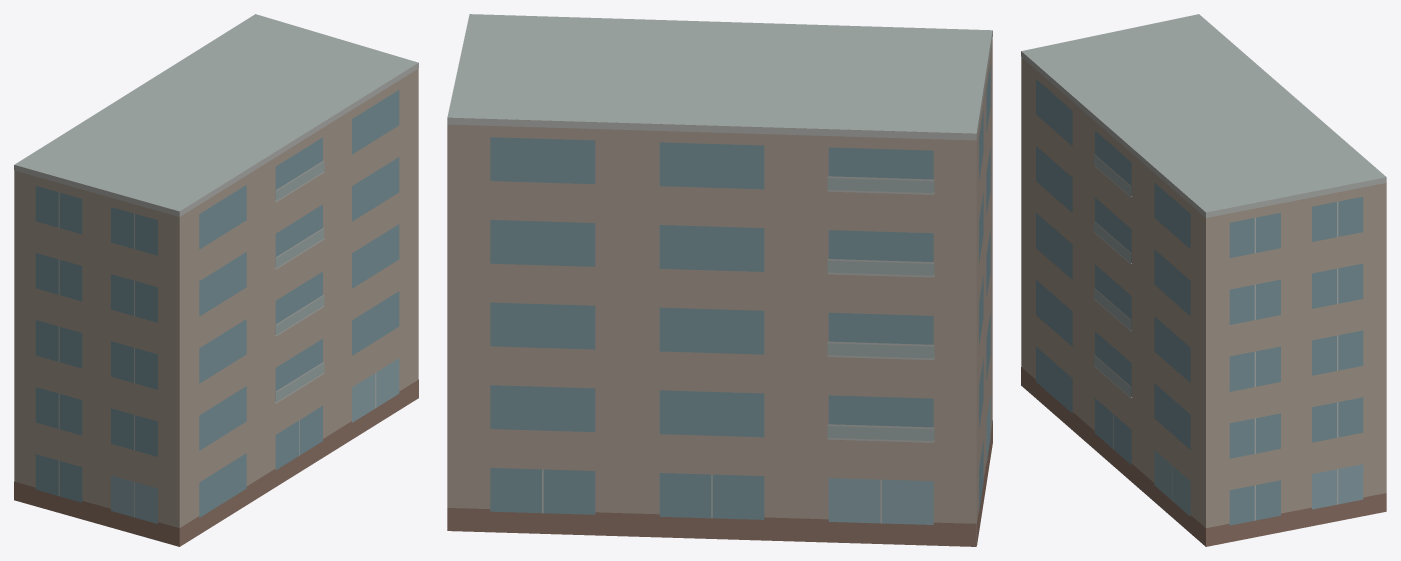
Rendered from survey-upis-32742699.glb.
The picture shows the model from 3 angles, left to right: view 1: azimuth 30°, elevation 25°; view 2: azimuth 150°, elevation 25°; view 3: azimuth 270°, elevation 25°; orthographic projection. The views are drawn at different scales.
Parts seen in each view (by area): view 1: survey-upis-32742699.tmp; view 2: survey-upis-32742699.tmp; view 3: survey-upis-32742699.tmp.
Boxes of the visible parts, left/top/right/bottom form: survey-upis-32742699.tmp: left=14, top=14, right=418, bottom=546; survey-upis-32742699.tmp: left=447, top=14, right=992, bottom=546; survey-upis-32742699.tmp: left=1021, top=14, right=1386, bottom=546.
Size of the model in its own units: 18.6 by 14.6 by 14.48.
